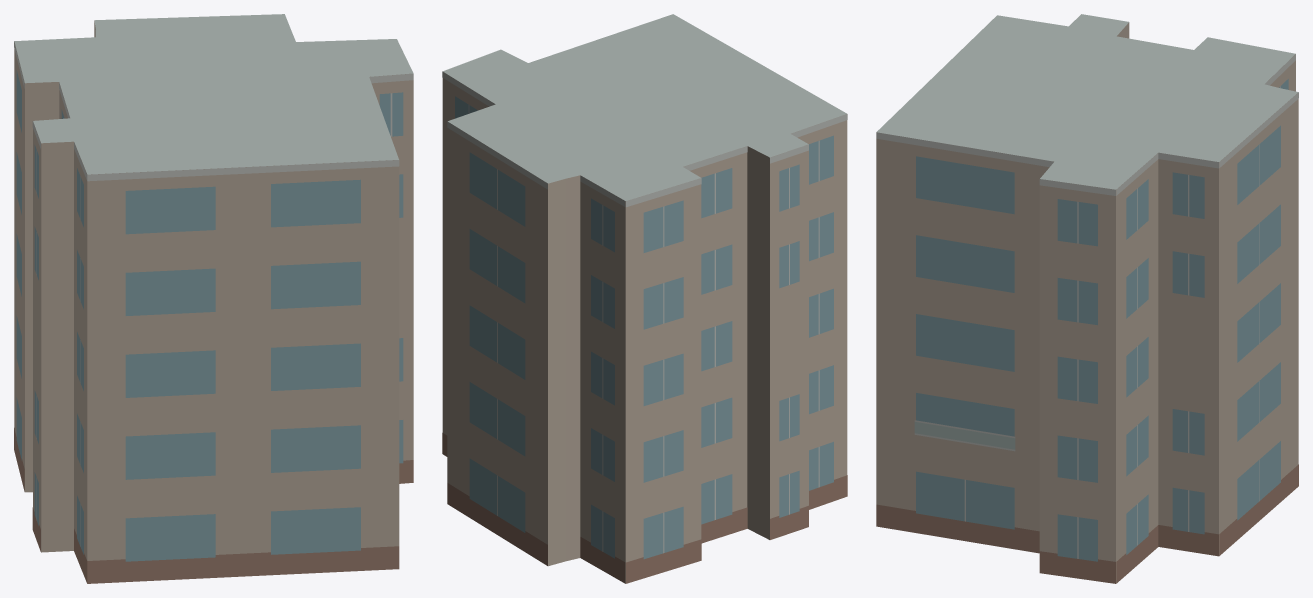
File: survey-upis-32986489.glb
3 views of the same model, side by side, from view 1: azimuth 30°, elevation 25°; view 2: azimuth 150°, elevation 25°; view 3: azimuth 270°, elevation 25° (orthographic). The views are drawn at different scales.
Parts seen in each view (by area): view 1: survey-upis-32986489.tmp; view 2: survey-upis-32986489.tmp; view 3: survey-upis-32986489.tmp.
Boxes of the visible parts, x1,y1,x2,y2 form: survey-upis-32986489.tmp: [14, 14, 413, 583]; survey-upis-32986489.tmp: [442, 14, 847, 583]; survey-upis-32986489.tmp: [876, 14, 1298, 583].
Size of the model in its own units: 14.35 by 15 by 14.58.
